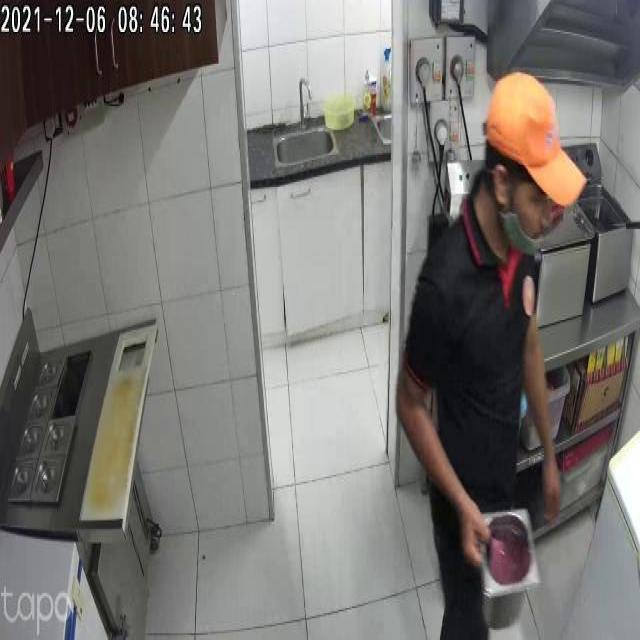bare_hand: (448, 473, 495, 563), (534, 431, 572, 537)
